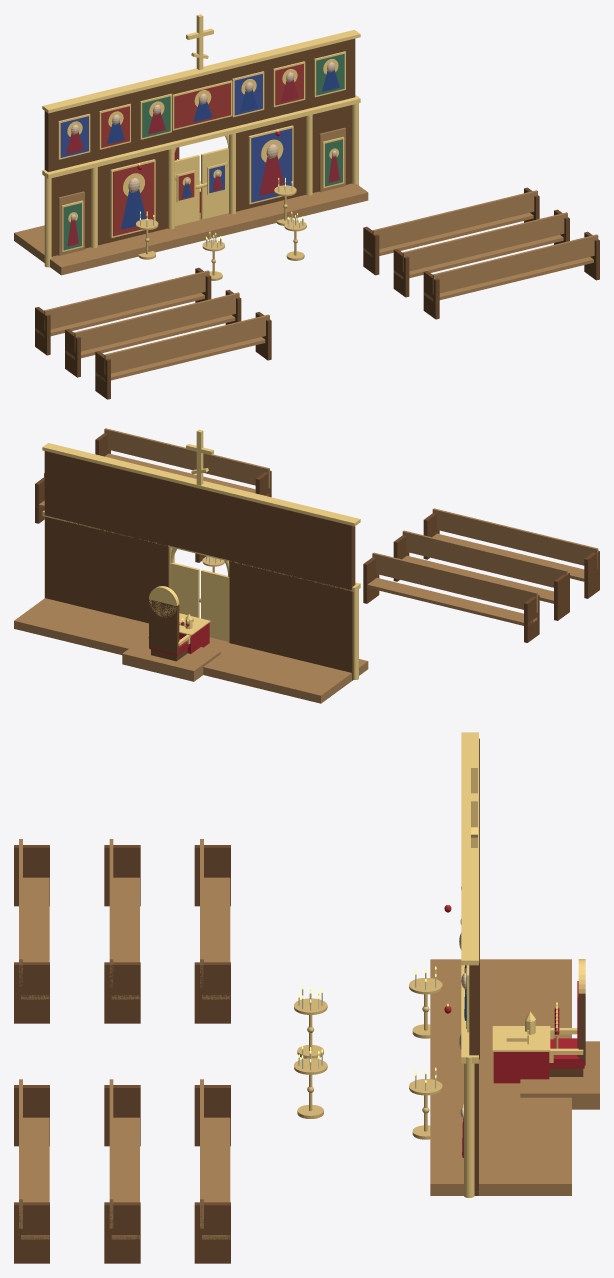
The model's file is bz_church_in.glb.
3 renders of one model, top to bottom at view 1: azimuth 30°, elevation 25°; view 2: azimuth 150°, elevation 25°; view 3: azimuth 270°, elevation 25°, orthographic. The views are drawn at different scales.
Parts seen in each view (by area): view 1: ЦІконостас, Лава_6, Лава_5, Лава_2, Лава_4, Лава_1, Лава_3, ЦСвічники; view 2: ЦІконостас, Лава_1, Лава_3, Лава_5, ЦПрестол, Лава_6, Лава_2; view 3: ЦІконостас, ЦПрестол, Лава_3, Лава_4, Лава_1, Лава_2, Лава_5, Лава_6, ЦСвічники.
Part boxes in pixels (<box>): ЦІконостас: <box>14,14,368,275</box>; Лава_6: <box>423,231,599,319</box>; Лава_5: <box>95,312,271,399</box>; Лава_2: <box>363,187,539,275</box>; Лава_4: <box>393,209,569,297</box>; Лава_1: <box>35,267,211,355</box>; Лава_3: <box>65,289,241,377</box>; ЦСвічники: <box>136,130,306,280</box>; ЦІконостас: <box>14,429,368,703</box>; Лава_1: <box>363,552,539,642</box>; Лава_3: <box>393,530,569,620</box>; Лава_5: <box>423,508,599,598</box>; ЦПрестол: <box>122,586,220,681</box>; Лава_6: <box>95,428,271,497</box>; Лава_2: <box>35,473,205,562</box>; ЦІконостас: <box>430,732,571,1197</box>; ЦПрестол: <box>492,959,599,1109</box>; Лава_3: <box>104,839,140,1023</box>; Лава_4: <box>104,1079,140,1263</box>; Лава_1: <box>194,839,230,1023</box>; Лава_2: <box>194,1079,230,1263</box>; Лава_5: <box>14,839,49,1023</box>; Лава_6: <box>14,1079,49,1263</box>; ЦСвічники: <box>294,903,559,1139</box>.
Size of the model in its own units: 9.24 by 3.79 by 6.35.
